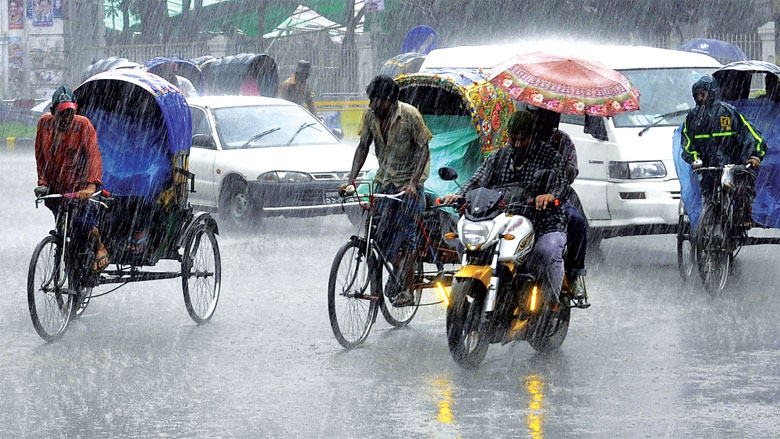Rickshaw: (27, 76, 231, 340), (327, 73, 512, 341), (671, 58, 779, 313), (209, 42, 279, 102), (144, 44, 216, 100)
